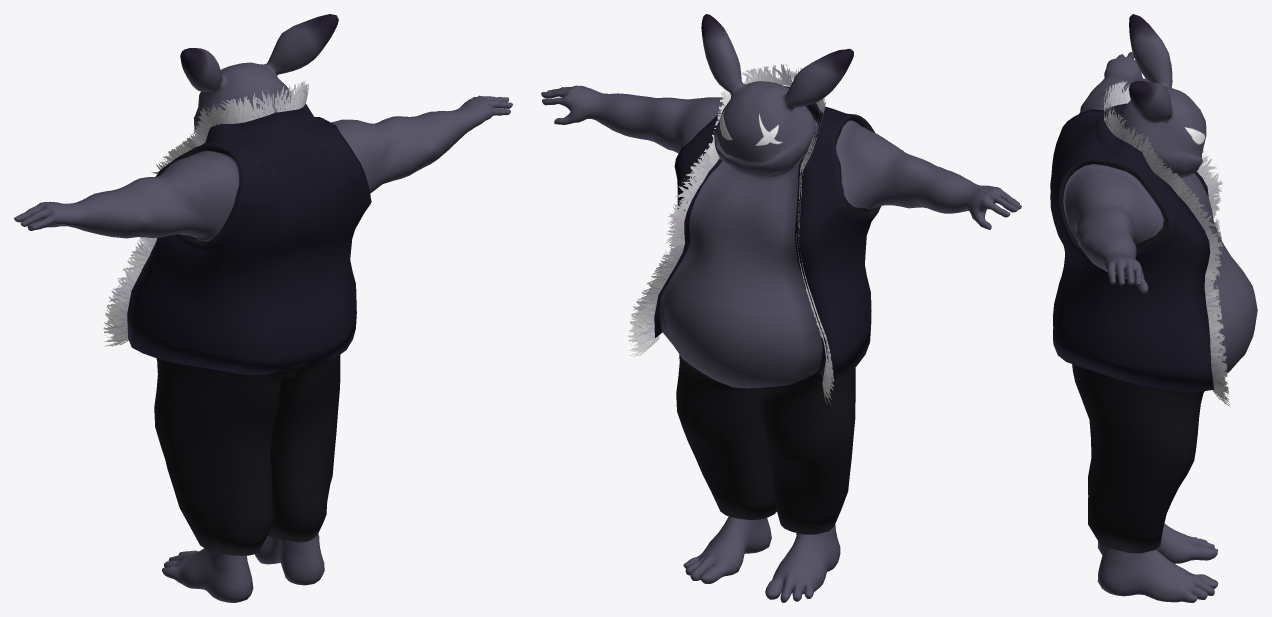
File: Enemigo.fbx
The picture shows the model from 3 angles, left to right: view 1: azimuth 30°, elevation 25°; view 2: azimuth 150°, elevation 25°; view 3: azimuth 270°, elevation 25°; orthographic projection. The views are drawn at different scales.
Parts seen in each view (by area): view 1: General, Fur, Fur3, Fur2; view 2: General, Fur3, Fur, Fur2; view 3: General, Fur, Fur3, Fur2.
Boxes of the visible parts, <box> form: General: <box>14,14,512,602</box>; Fur: <box>103,84,309,346</box>; Fur3: <box>107,84,307,345</box>; Fur2: <box>113,80,305,345</box>; General: <box>541,14,1021,602</box>; Fur3: <box>632,64,830,404</box>; Fur: <box>628,64,834,404</box>; Fur2: <box>637,64,831,398</box>; General: <box>1050,14,1257,602</box>; Fur: <box>1103,82,1230,406</box>; Fur3: <box>1103,83,1229,404</box>; Fur2: <box>1108,81,1223,401</box>.
Bounding box in the file's own units: 307 × 329 × 117.
